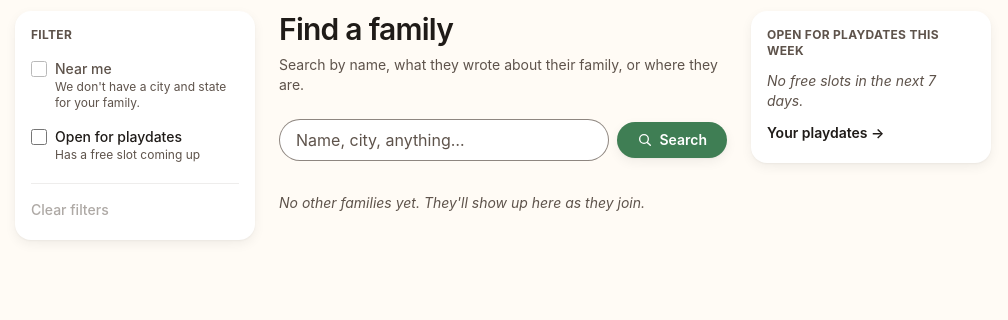
it: SearchPage › submits the query and renders result cards
Type "garcia" into the field named "search". click: coordinates (444, 140)
box: top-left (279, 119), bottom-right (610, 161)
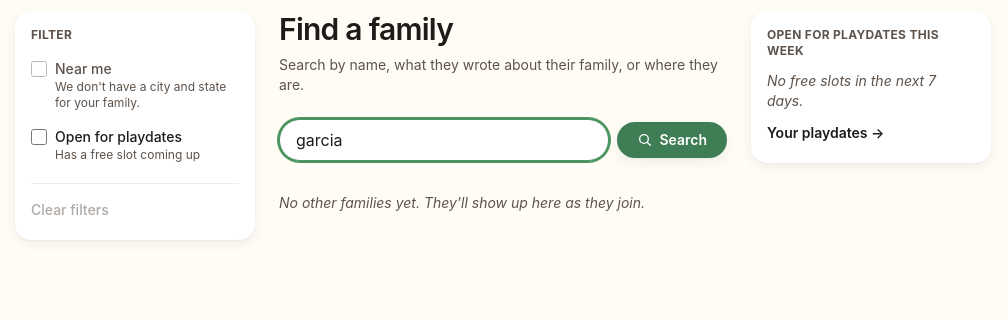
Click the button "Search". click: coordinates (672, 140)
box: top-left (618, 122), bottom-right (727, 158)
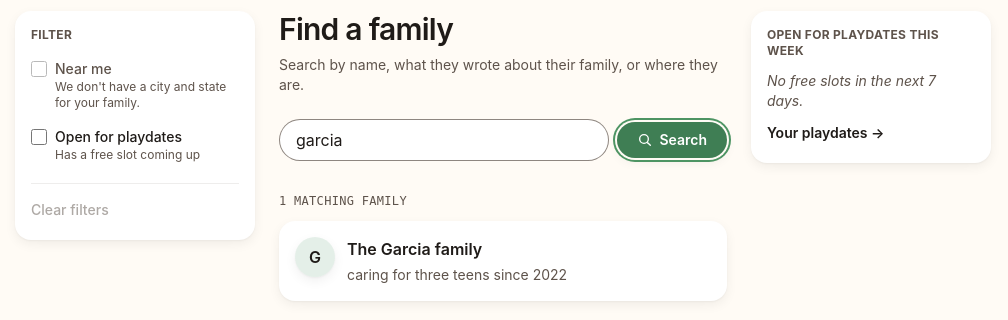
Check: the link "The Garcia family" is shown, box top-left (347, 239), bottom-right (482, 259)
